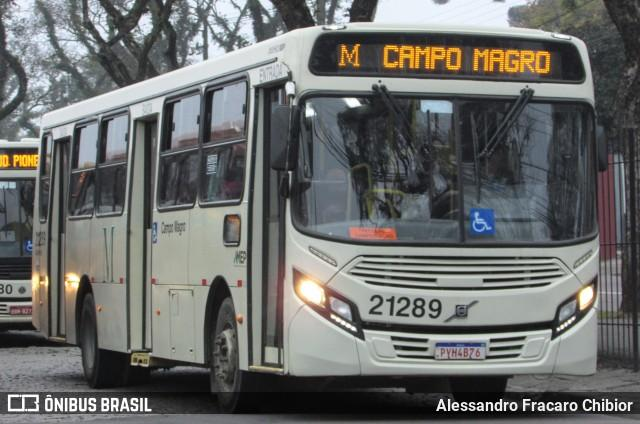CAMPO MAGRO: (376, 39, 554, 78)
